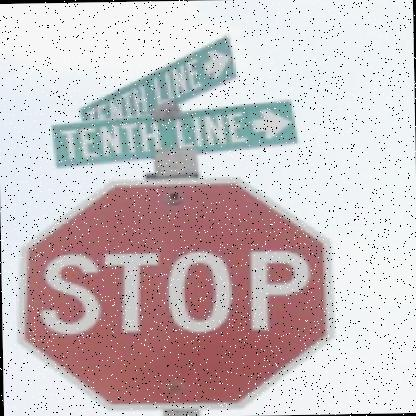stop: (11, 169, 336, 412)
